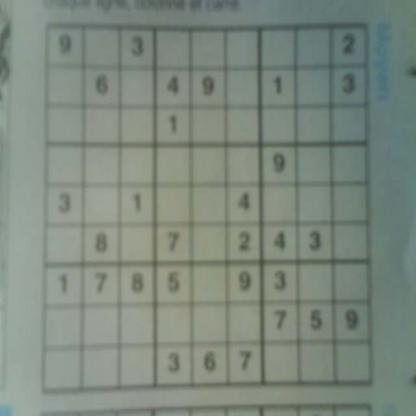sudoku: (36, 16, 378, 401)
